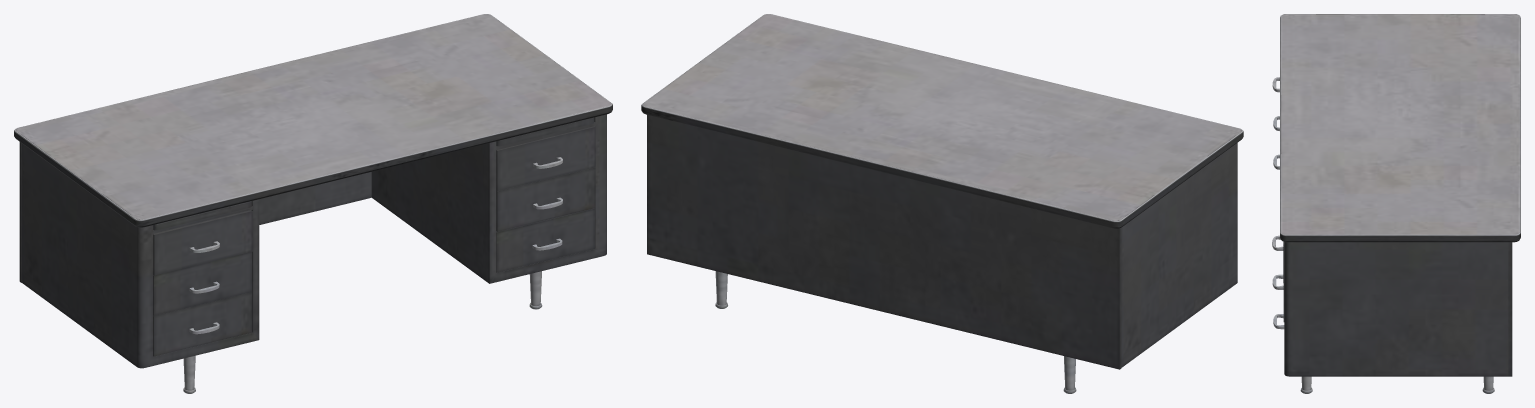
File: metal_office_desk.glb
3 views of the same model, side by side, from view 1: azimuth 30°, elevation 25°; view 2: azimuth 150°, elevation 25°; view 3: azimuth 270°, elevation 25° (orthographic). The views are drawn at different scales.
Parts seen in each view (by area): view 1: metal_office_desk_drawer_06; view 2: metal_office_desk_drawer_06; view 3: metal_office_desk_drawer_06.
Boxes of the visible parts, x1,y1,x2,y2 form: metal_office_desk_drawer_06: [14, 14, 612, 393]; metal_office_desk_drawer_06: [641, 14, 1243, 393]; metal_office_desk_drawer_06: [1272, 14, 1520, 393].
Bounding box in the file's own units: 2 × 0.7874 × 0.9471.
1 material, 1 textured.
